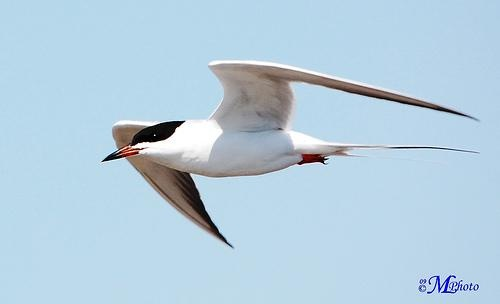bird: (100, 60, 481, 248)
